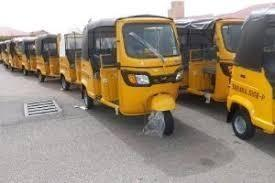keke: (75, 13, 184, 138), (223, 7, 275, 162)
